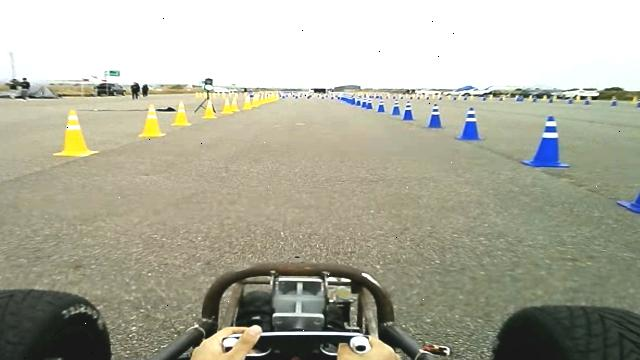blue cone: (522, 115, 570, 168), (617, 157, 640, 215), (456, 106, 485, 141), (426, 103, 444, 128), (402, 101, 415, 120), (391, 100, 402, 115), (377, 98, 386, 112), (365, 100, 373, 109)
yellow cone: (54, 109, 100, 157), (138, 103, 166, 138), (171, 100, 192, 126), (202, 98, 218, 119), (222, 98, 234, 114), (243, 97, 253, 110), (232, 98, 240, 112), (252, 97, 262, 108)
